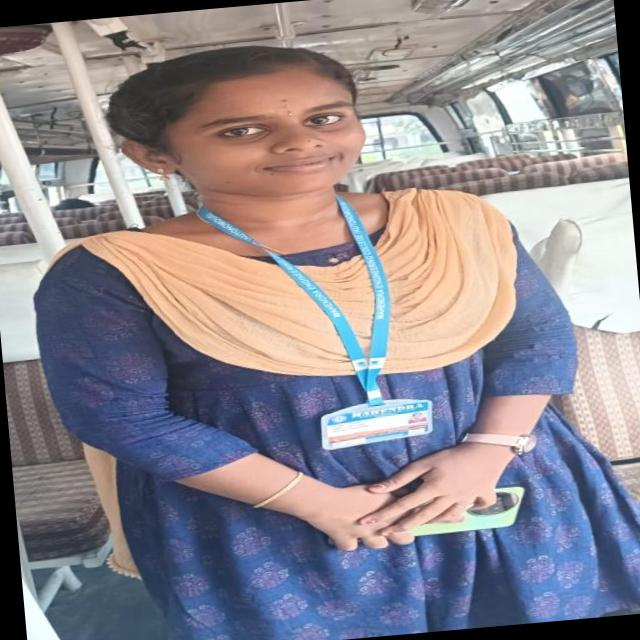id_card: (203, 178, 434, 456)
